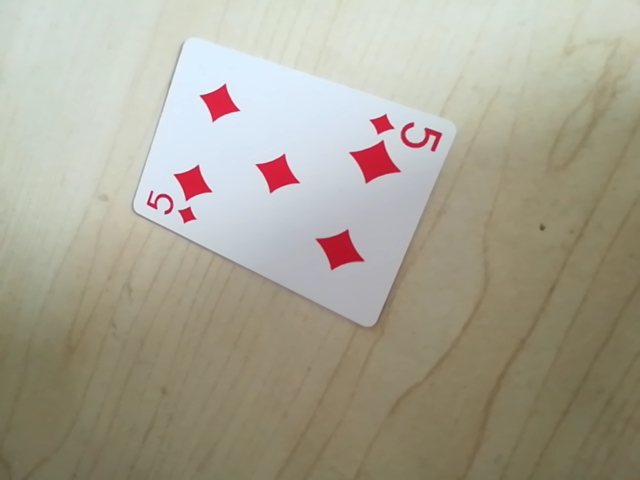fk 5: (366, 111, 449, 153), (140, 188, 203, 229)
